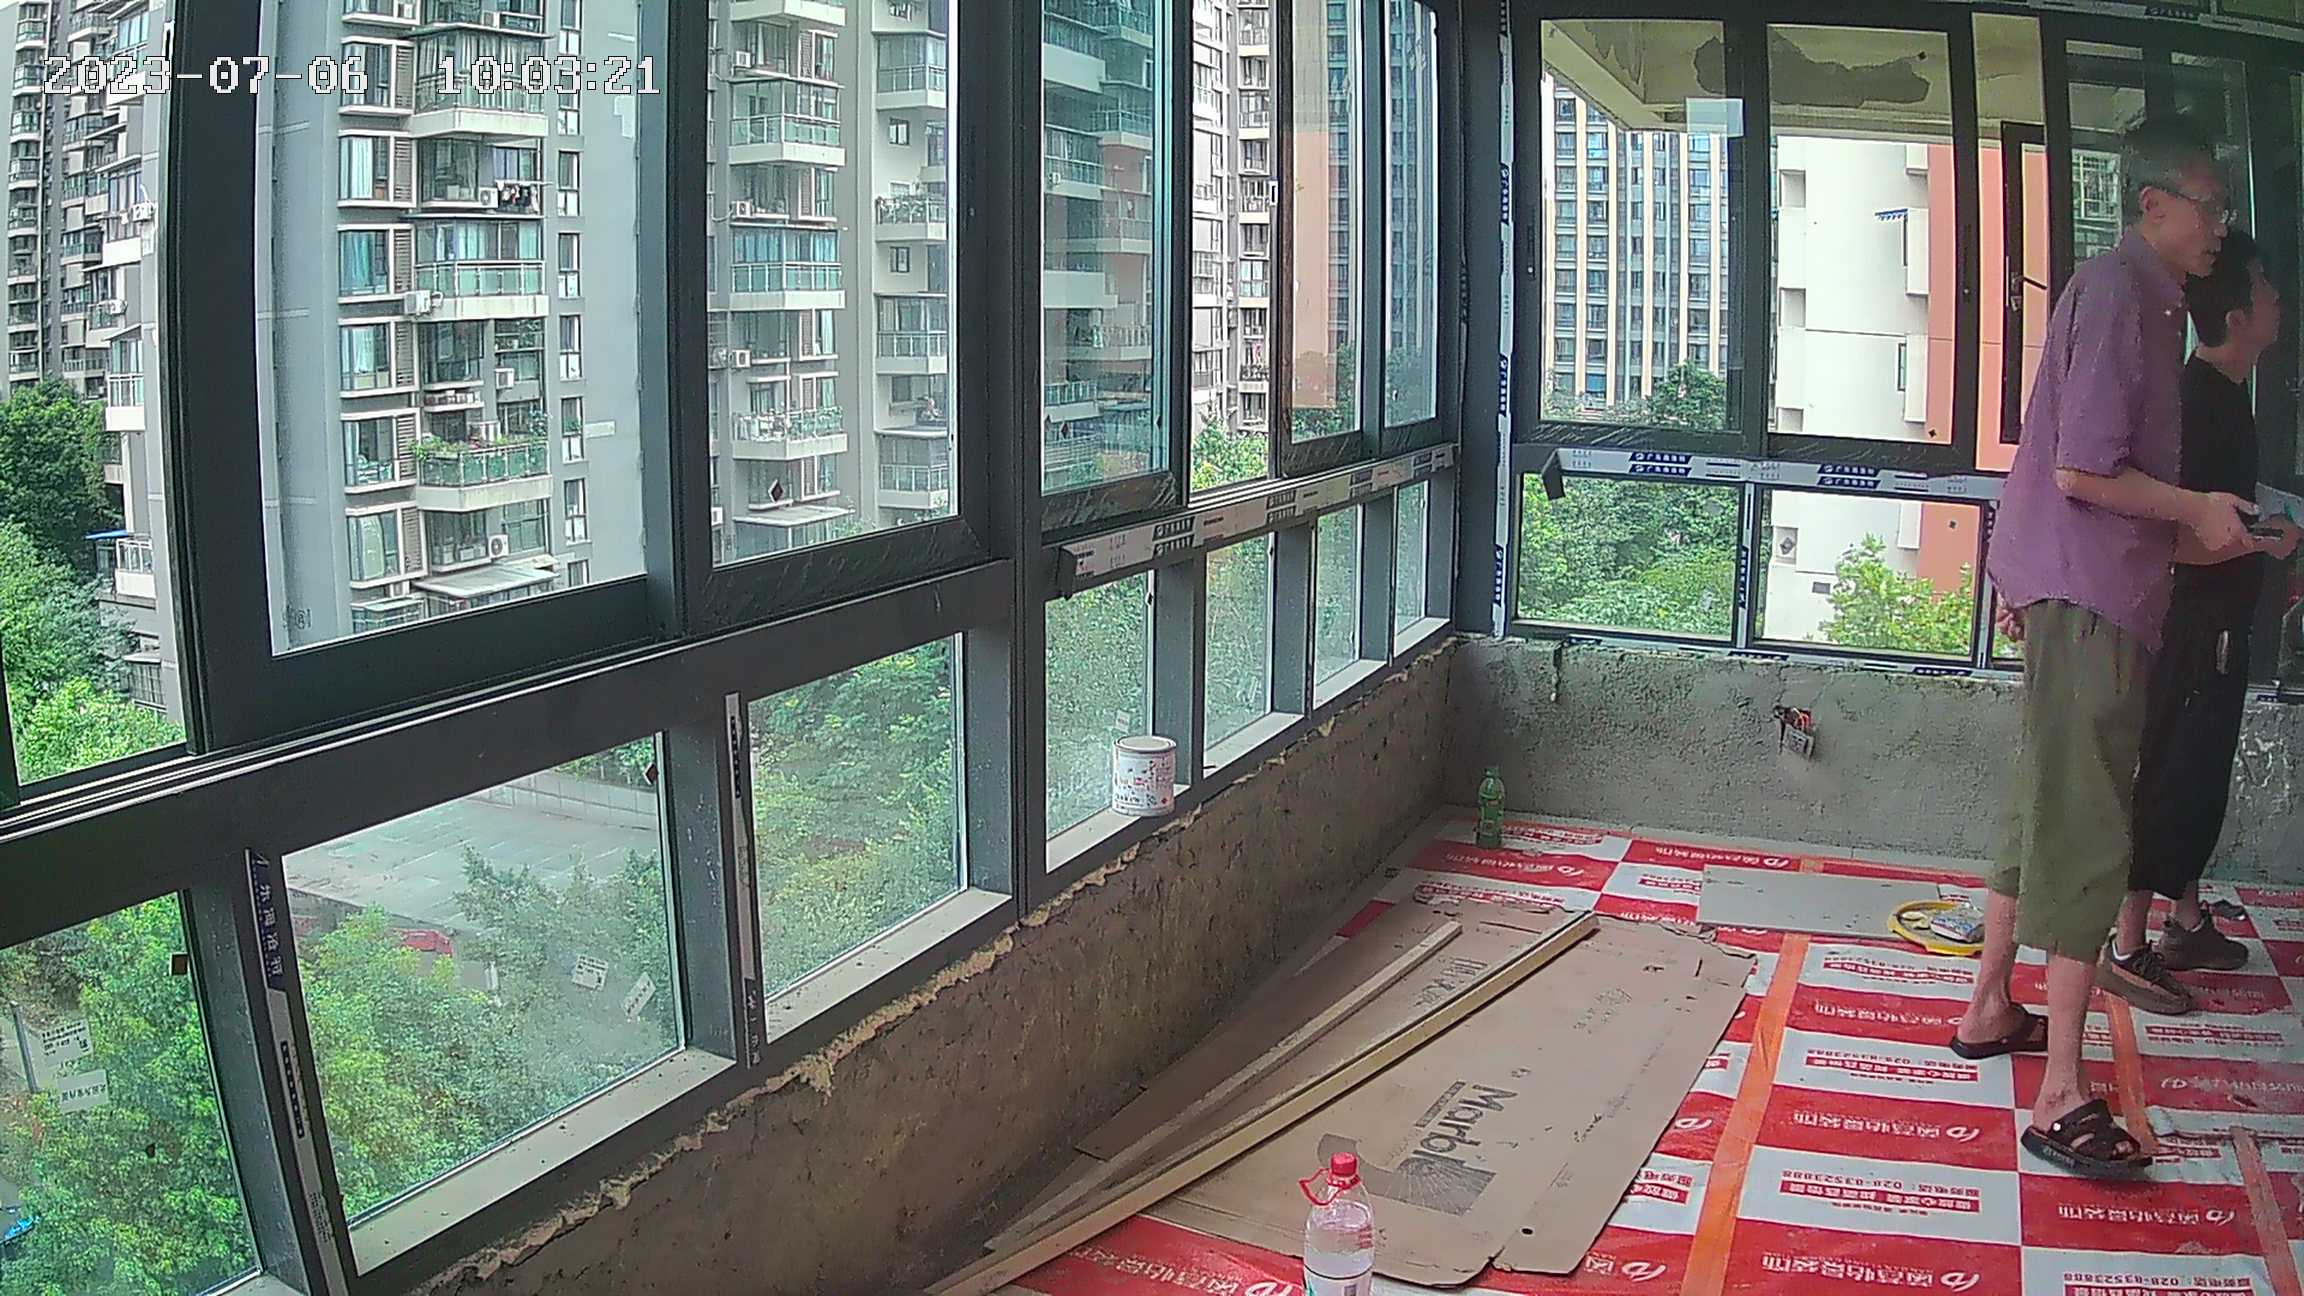people: (1936, 126, 2221, 1160), (2113, 215, 2282, 1029)
window: (4, 6, 1442, 1291), (1503, 9, 2279, 629)
